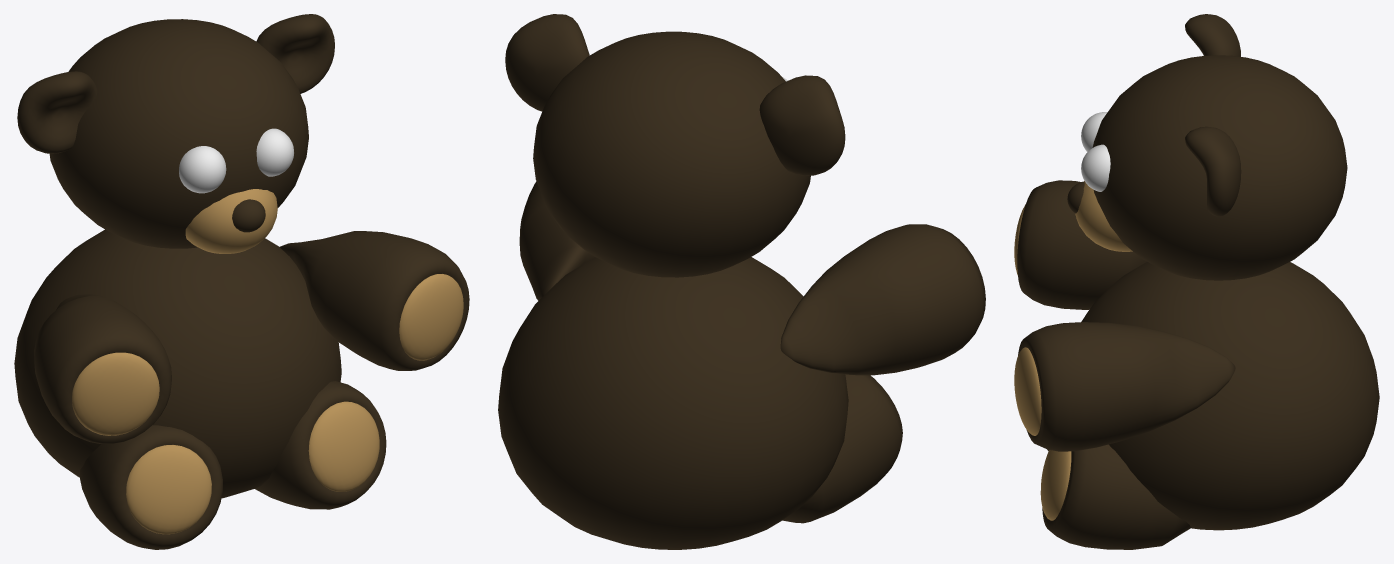
Rendered from bear_brown.dae.
The picture shows the model from 3 angles, left to right: view 1: azimuth 30°, elevation 25°; view 2: azimuth 150°, elevation 25°; view 3: azimuth 270°, elevation 25°; orthographic projection. The views are drawn at different scales.
Parts seen in each view (by area): view 1: Sphere.012, Sphere.005, Sphere.015, Sphere.011; view 2: Sphere.012; view 3: Sphere.012, Sphere.005, Sphere.015.
Boxes of the visible parts, x1=… form: Sphere.012: x1=14, y1=14, x2=469, y2=549; Sphere.005: x1=72, y1=189, x2=463, y2=534; Sphere.015: x1=179, y1=128, x2=293, y2=193; Sphere.011: x1=232, y1=199, x2=265, y2=232; Sphere.012: x1=498, y1=14, x2=985, y2=549; Sphere.012: x1=1017, y1=14, x2=1379, y2=549; Sphere.005: x1=1014, y1=181, x2=1132, y2=520; Sphere.015: x1=1081, y1=112, x2=1110, y2=191.
Size of the model in its own units: 3.63 by 2.84 by 3.78.
